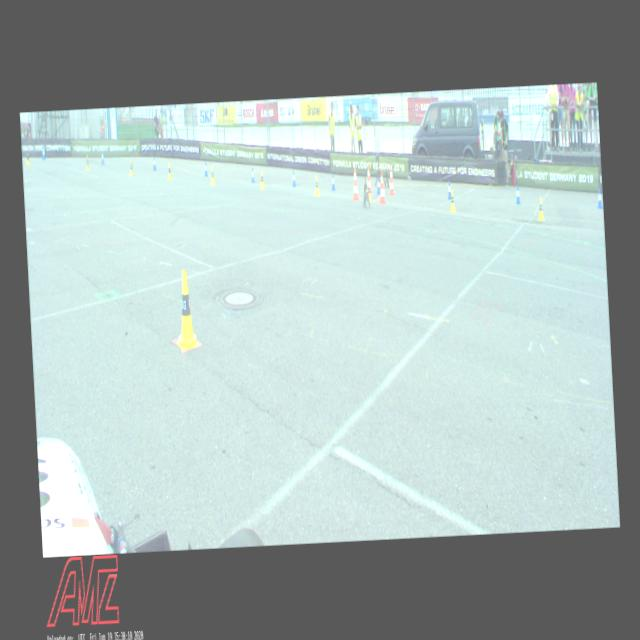blue_cone: (596, 188, 604, 209), (514, 184, 520, 204), (446, 180, 452, 200), (331, 172, 336, 190), (376, 177, 381, 195), (41, 146, 46, 160), (292, 170, 296, 187), (251, 168, 255, 184), (152, 156, 156, 171), (204, 162, 208, 176), (100, 151, 104, 164)
large_orange_cone: (378, 170, 386, 204), (352, 167, 359, 200), (388, 167, 395, 195), (367, 166, 372, 193)
yellow_cone: (173, 270, 200, 350), (538, 197, 544, 221), (450, 190, 456, 212), (314, 175, 320, 196), (259, 170, 265, 190), (210, 167, 216, 185), (367, 182, 372, 202), (167, 162, 172, 180), (129, 158, 134, 176), (86, 154, 90, 171), (26, 151, 30, 166)
